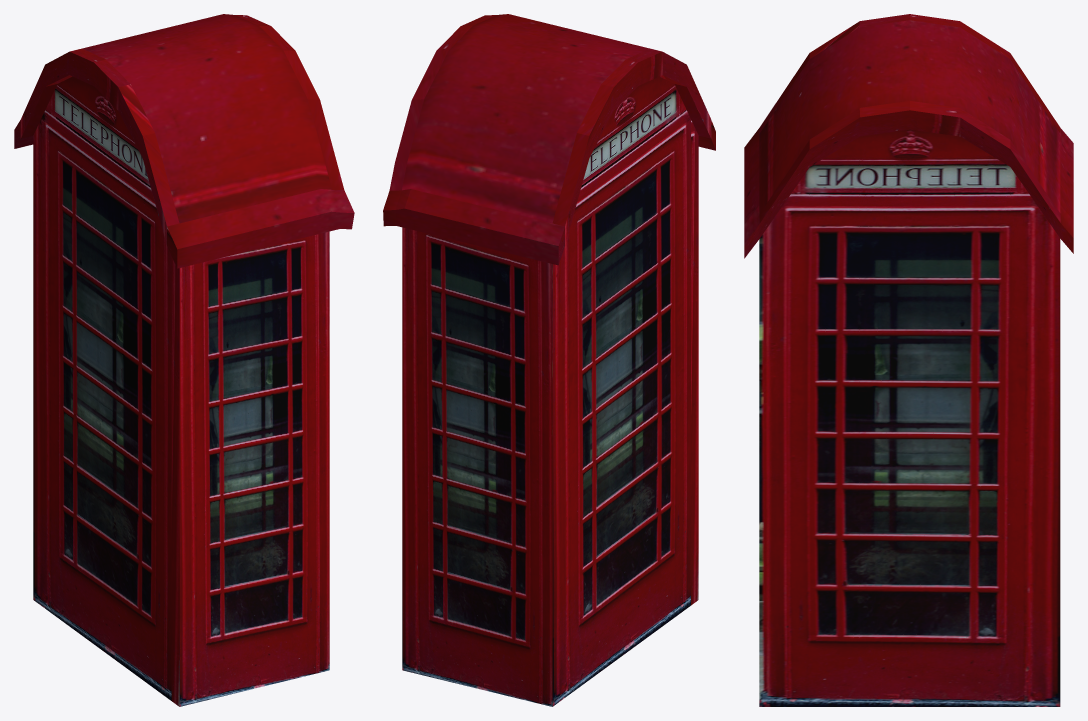
The model's file is phonebooth.FBX.
3 views of the same model, side by side, from view 1: azimuth 30°, elevation 25°; view 2: azimuth 150°, elevation 25°; view 3: azimuth 270°, elevation 25° (orthographic). The views are drawn at different scales.
Visible parts, largest first — view 1: Box001; view 2: Box001; view 3: Box001.
Boxes of the visible parts, left/top/right/bottom form: Box001: left=14, top=14, right=354, bottom=706; Box001: left=383, top=14, right=715, bottom=706; Box001: left=744, top=14, right=1073, bottom=706.
Size of the model in its own units: 8.41 by 26.47 by 12.93.
